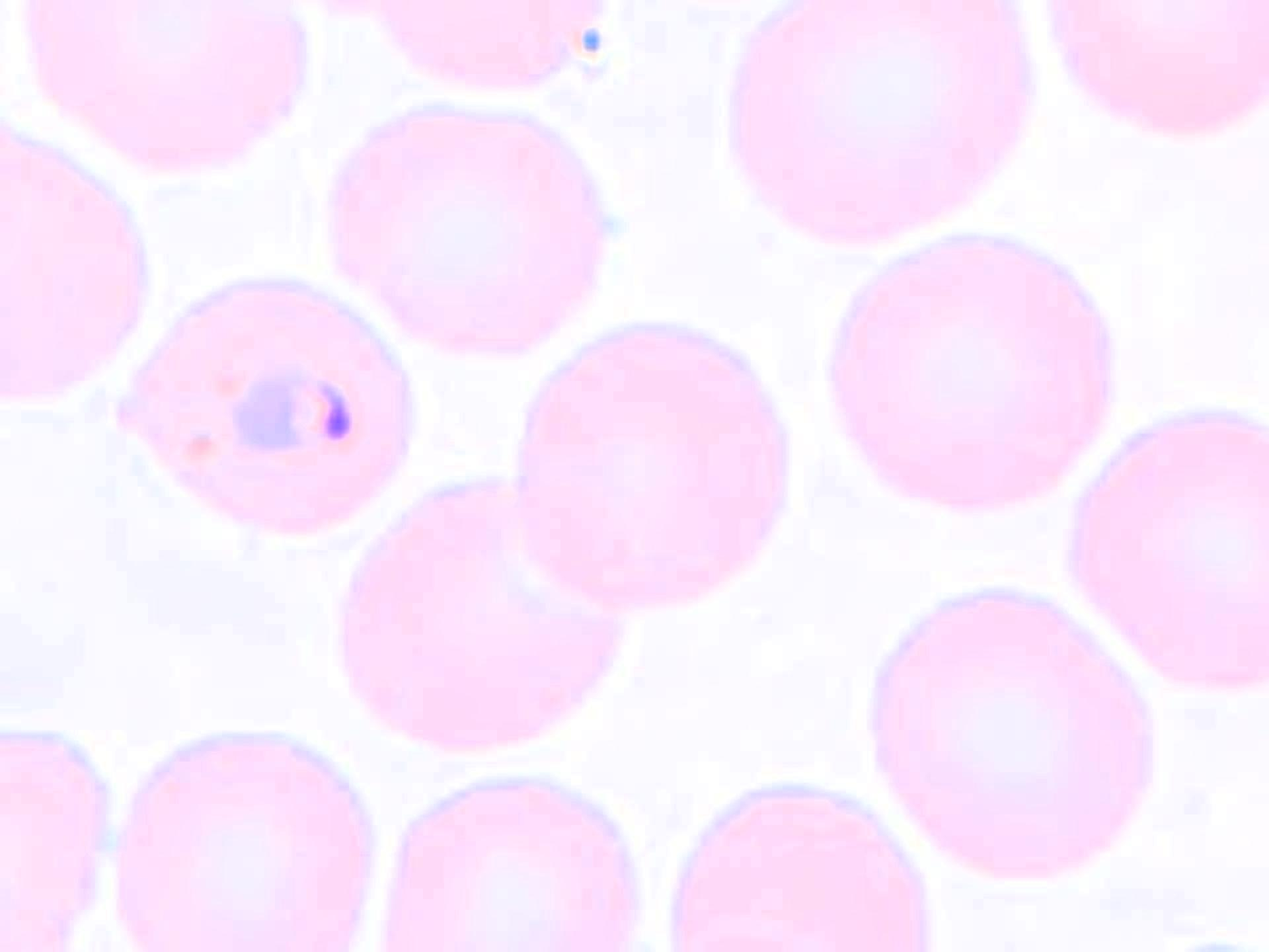Infected: (119, 283, 412, 537)
Uninfected: (876, 589, 1157, 880), (514, 323, 791, 602), (342, 485, 621, 754), (834, 235, 1107, 509), (732, 0, 1030, 241), (330, 111, 605, 352), (111, 731, 375, 952), (1074, 405, 1269, 680), (25, 0, 302, 171), (666, 780, 930, 952), (390, 779, 640, 952), (0, 126, 142, 401)
